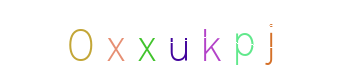0: (95, 0, 175, 80)
J: (186, 0, 266, 80)
K: (140, 0, 220, 80)
P: (163, 0, 243, 80)
U: (137, 0, 217, 80)
X: (105, 0, 185, 80), (106, 0, 186, 80)
